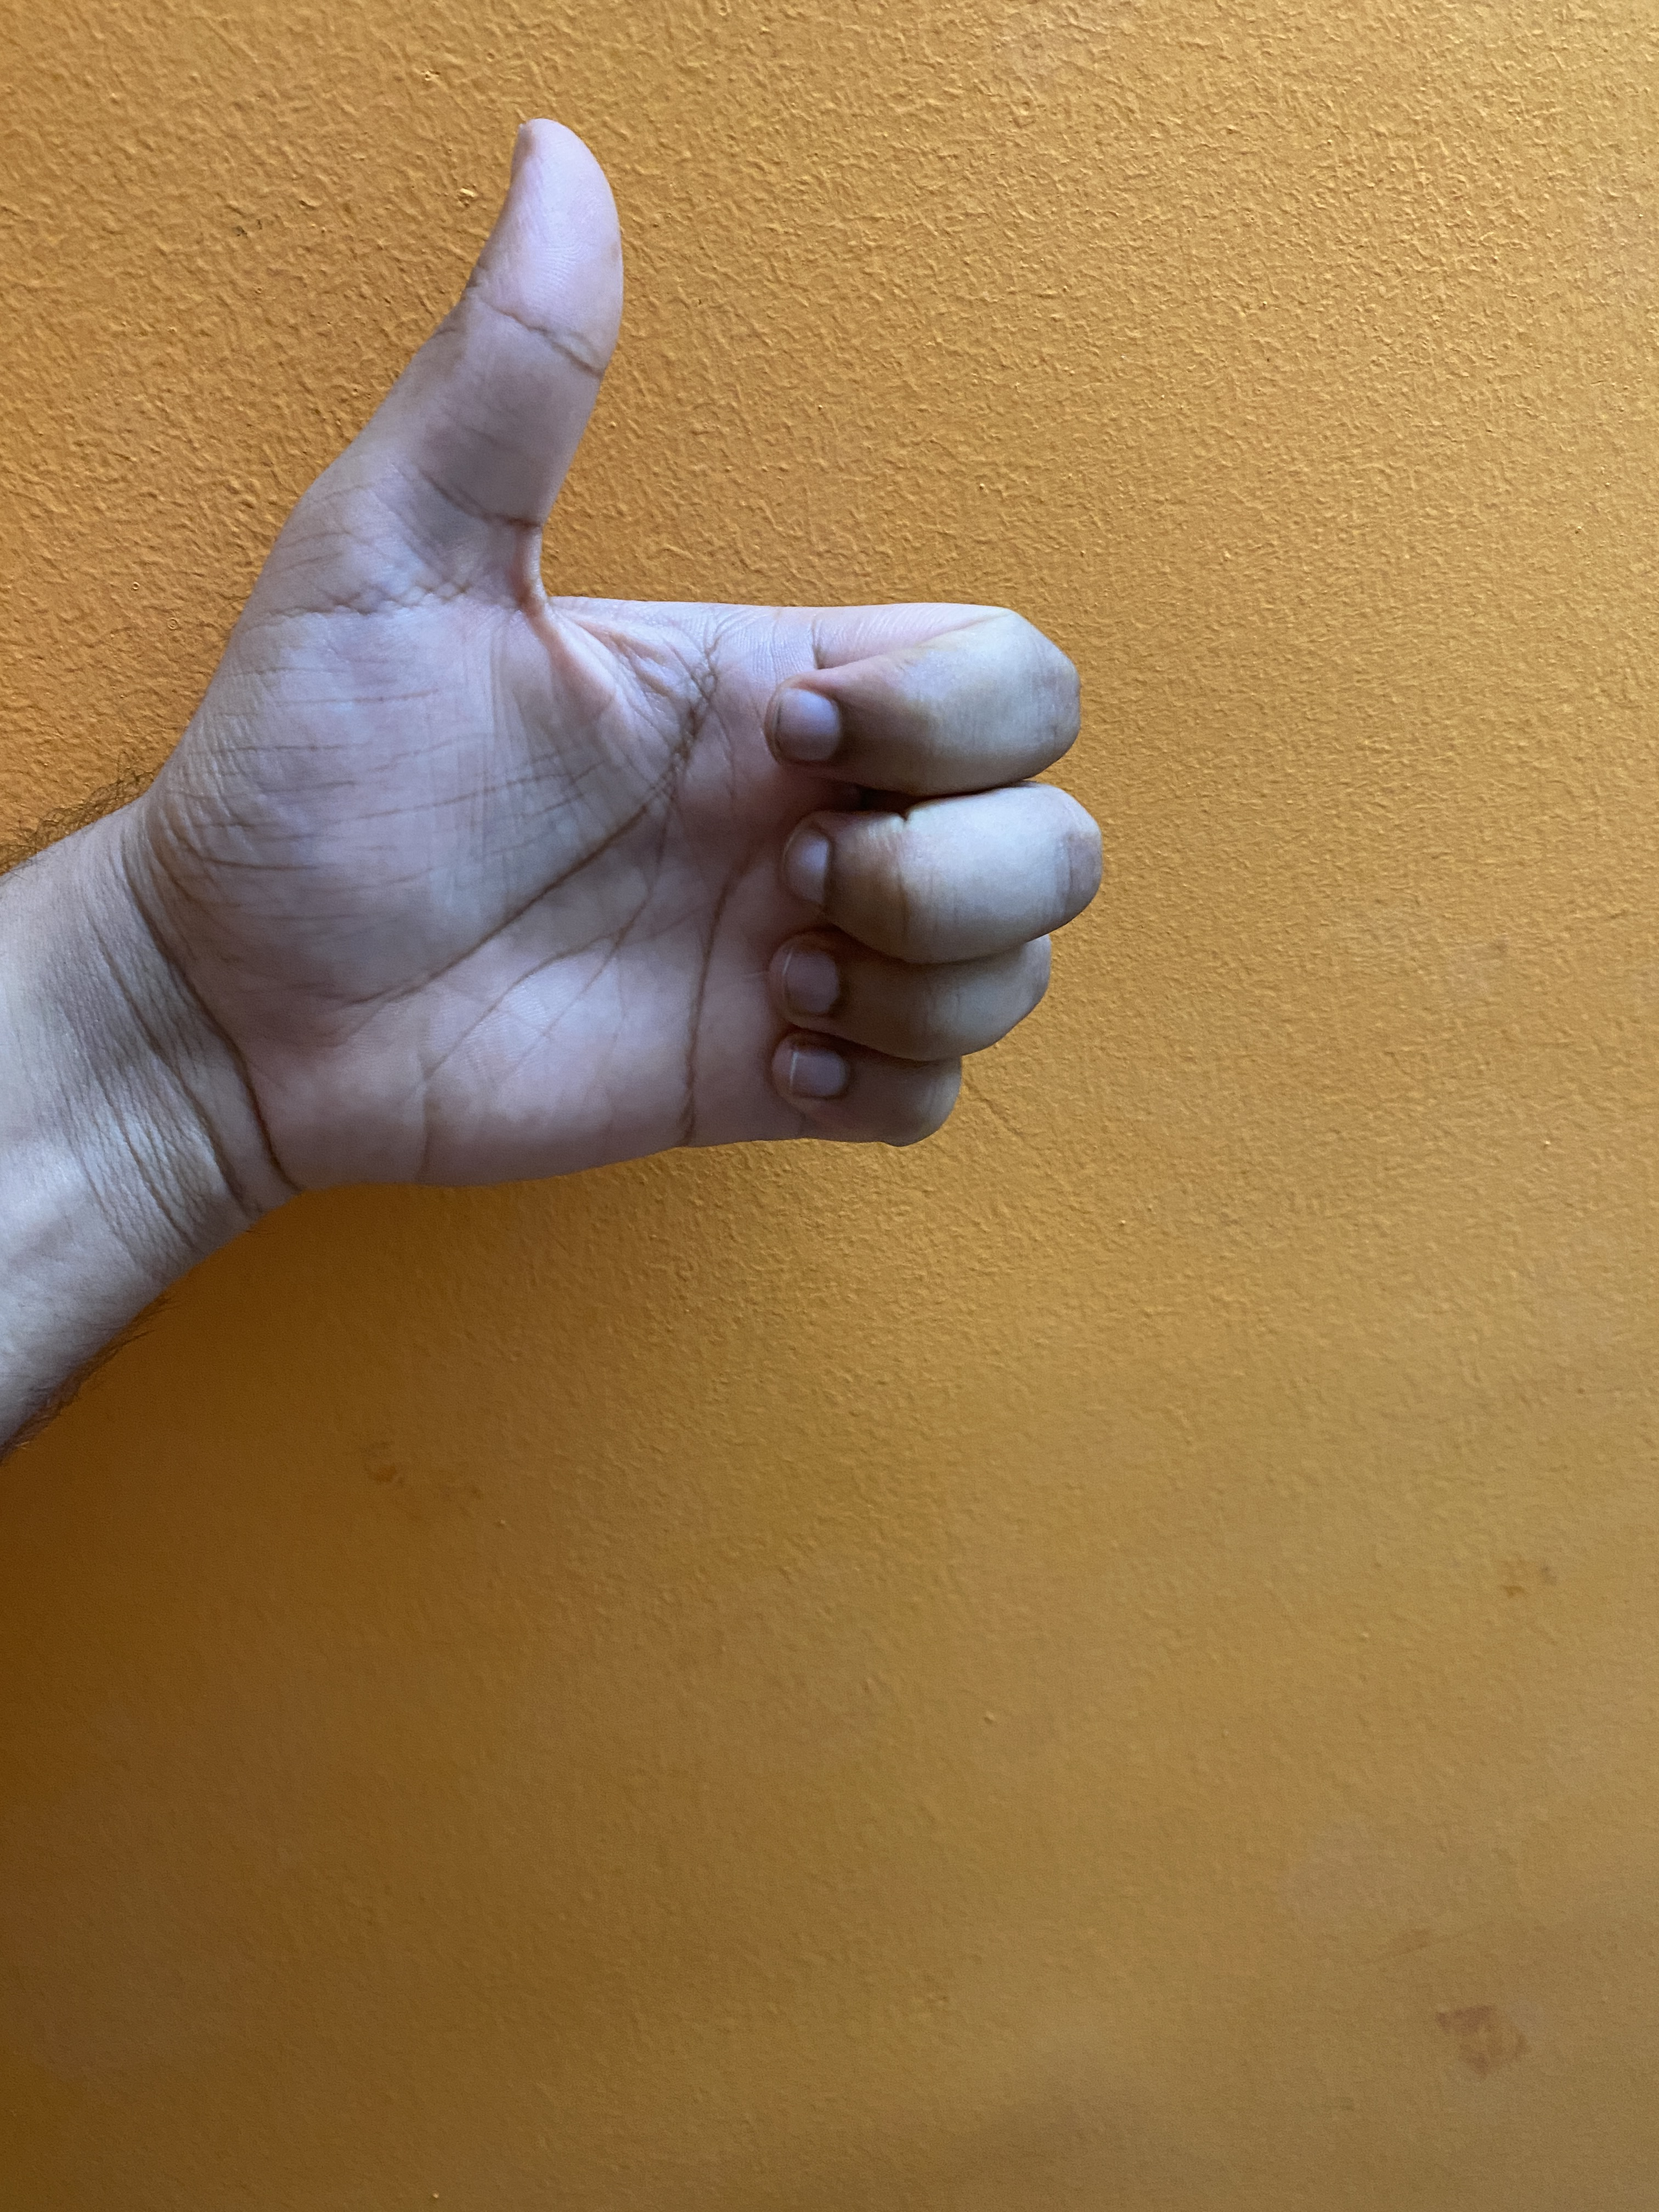up: (38, 96, 1290, 1430)
